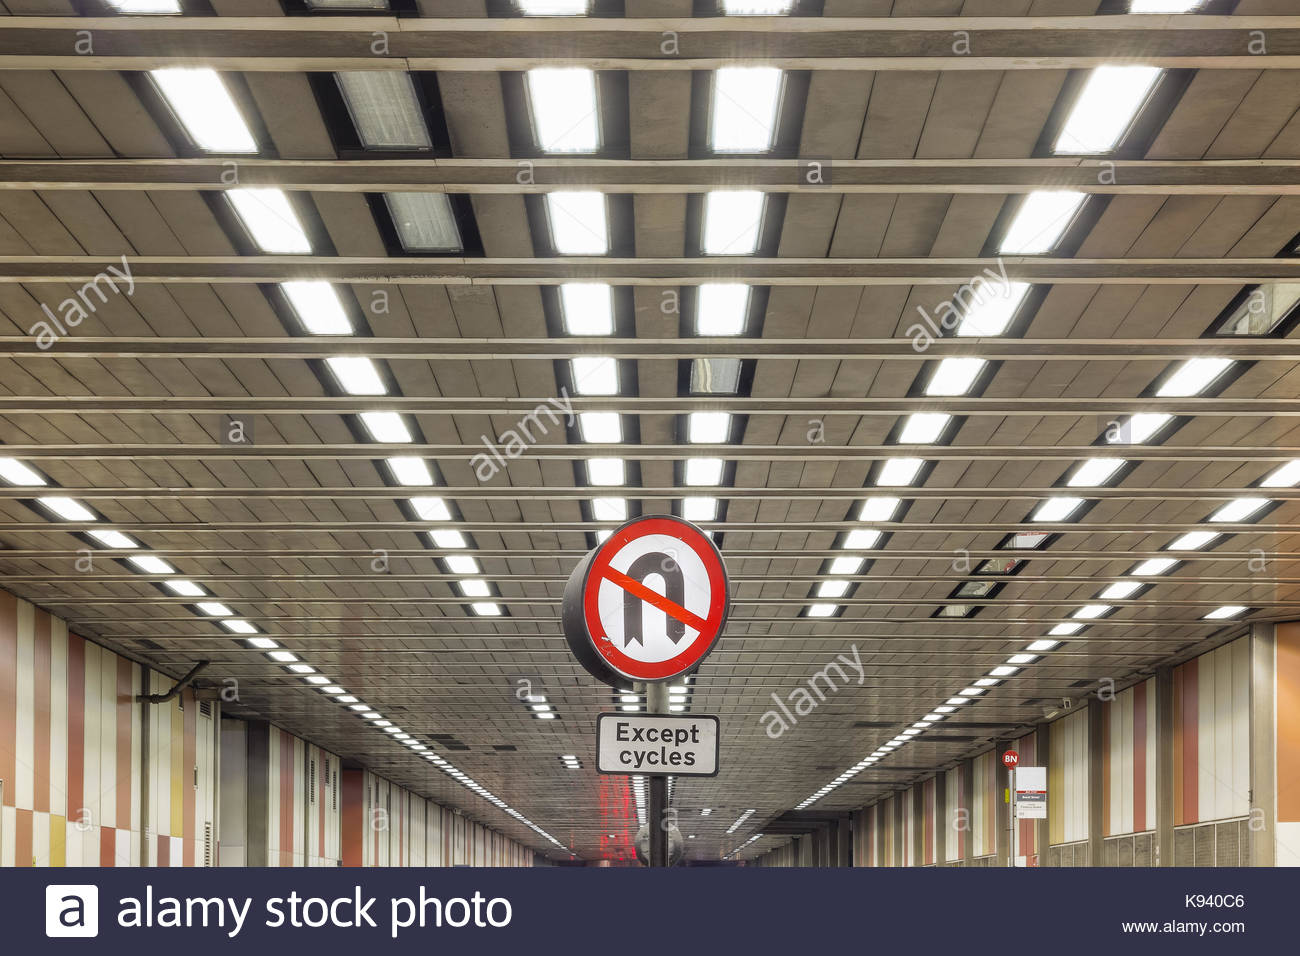No_u_turn: (583, 516, 728, 679)
